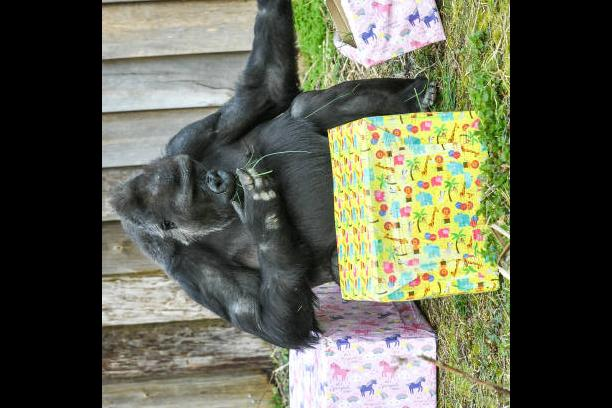gorille_Autres: (102, 71, 328, 327)
